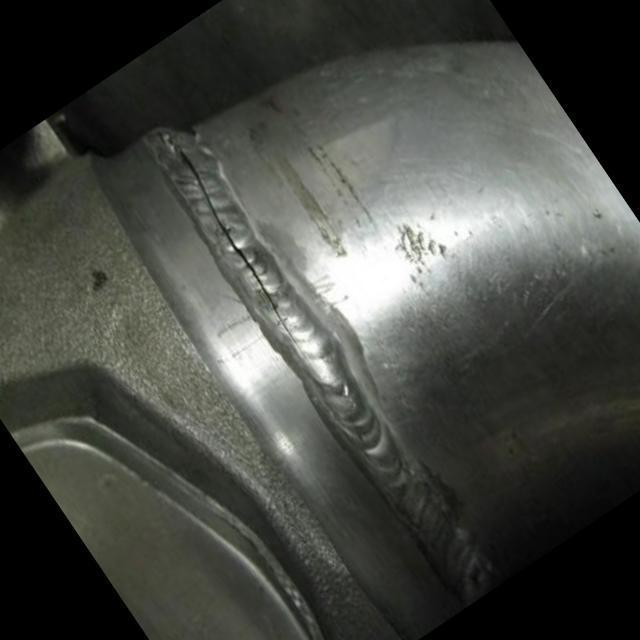defect: (164, 132, 312, 367)
